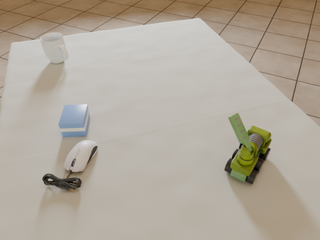box: (59, 105, 90, 137)
cup: (40, 33, 68, 63)
mouse: (63, 140, 98, 175)
toy_car: (225, 113, 271, 184)
